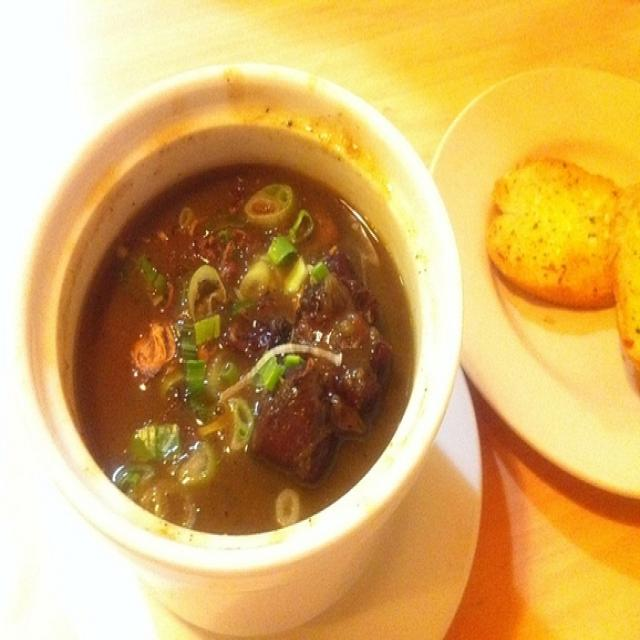汤锅炖物: (38, 58, 450, 604)
